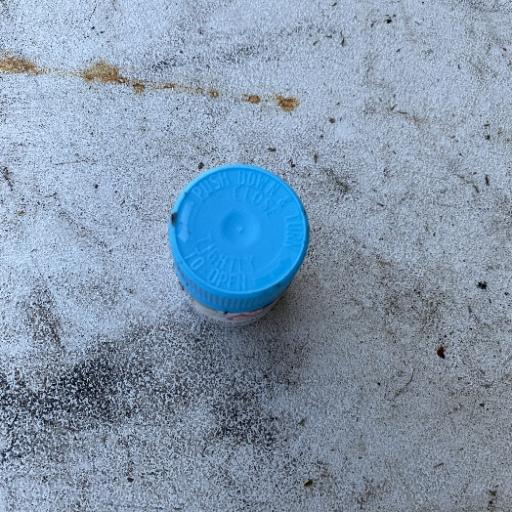Plastic: (165, 162, 311, 328)
